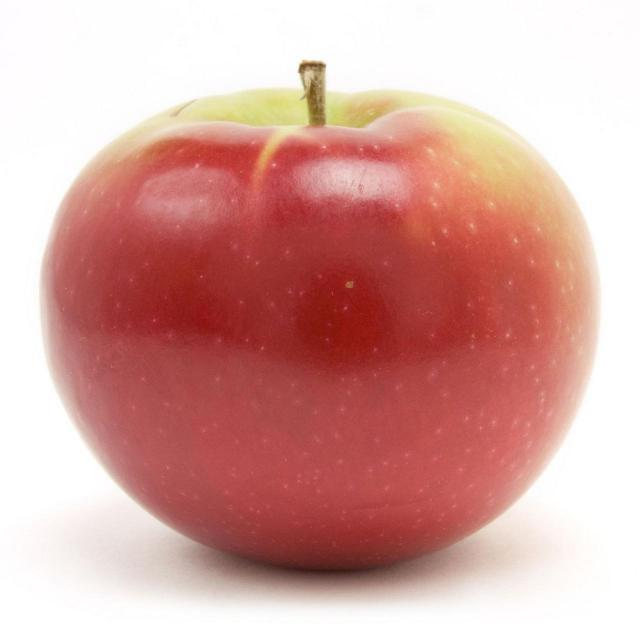Fresh Apple: (59, 90, 588, 573)
